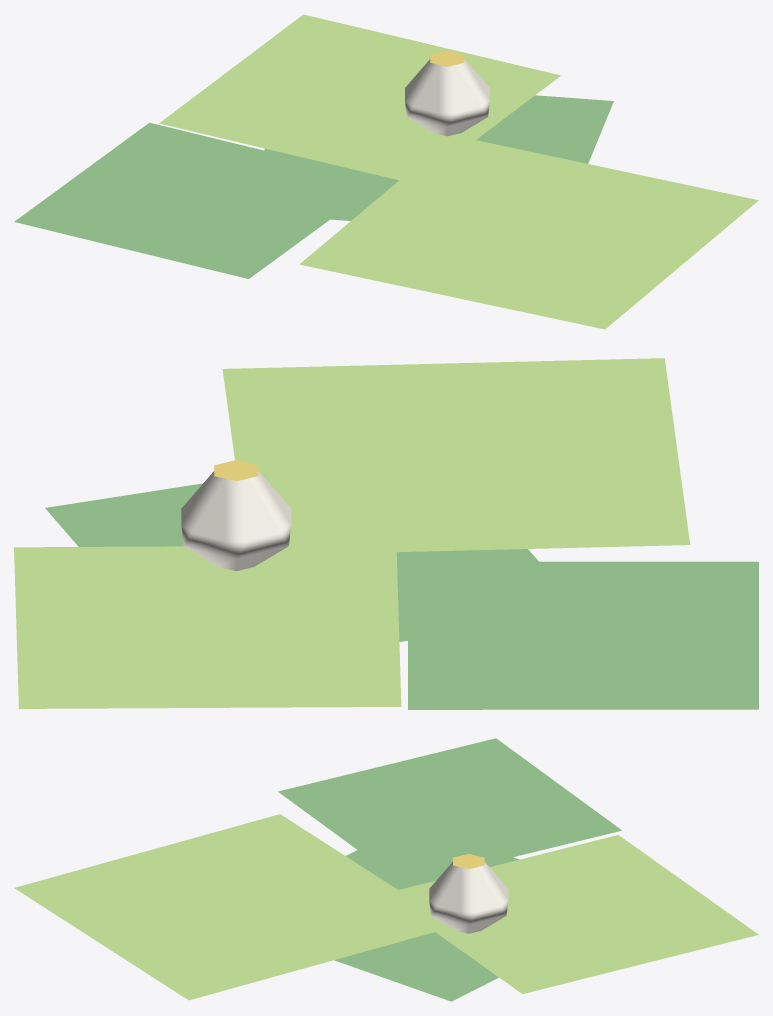
The model's file is plant_lily.glb.
The picture shows the model from 3 angles, top to bottom: view 1: azimuth 30°, elevation 25°; view 2: azimuth 150°, elevation 25°; view 3: azimuth 270°, elevation 25°; orthographic projection. The views are drawn at different scales.
Parts seen in each view (by area): view 1: plant_lily; view 2: plant_lily; view 3: plant_lily.
Part boxes in pixels (x1,y1,x2,y2): plant_lily: (14, 14, 758, 329); plant_lily: (14, 358, 758, 709); plant_lily: (14, 738, 758, 1001).
Bounding box in the file's own units: 1.71 × 0.208 × 2.04.
